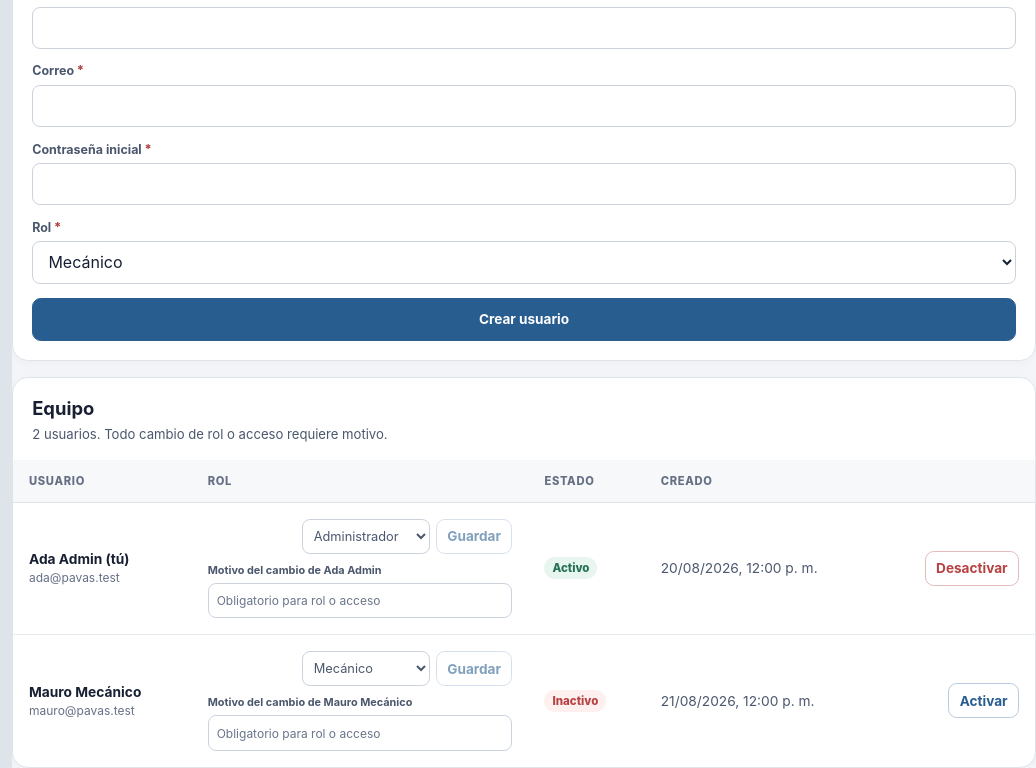
Test: UsersPage › reactivates an inactive user without destructive confirmation
The image size is (1036, 768).
(page scrolled)
expect the text "Mauro Mecánico" is shown: met, box [29,684,141,700]
In the field labelled "Motivo del cambio de Mauro Mecánico": [360, 733] box [208,716,512,751], type "Regreso al taller"
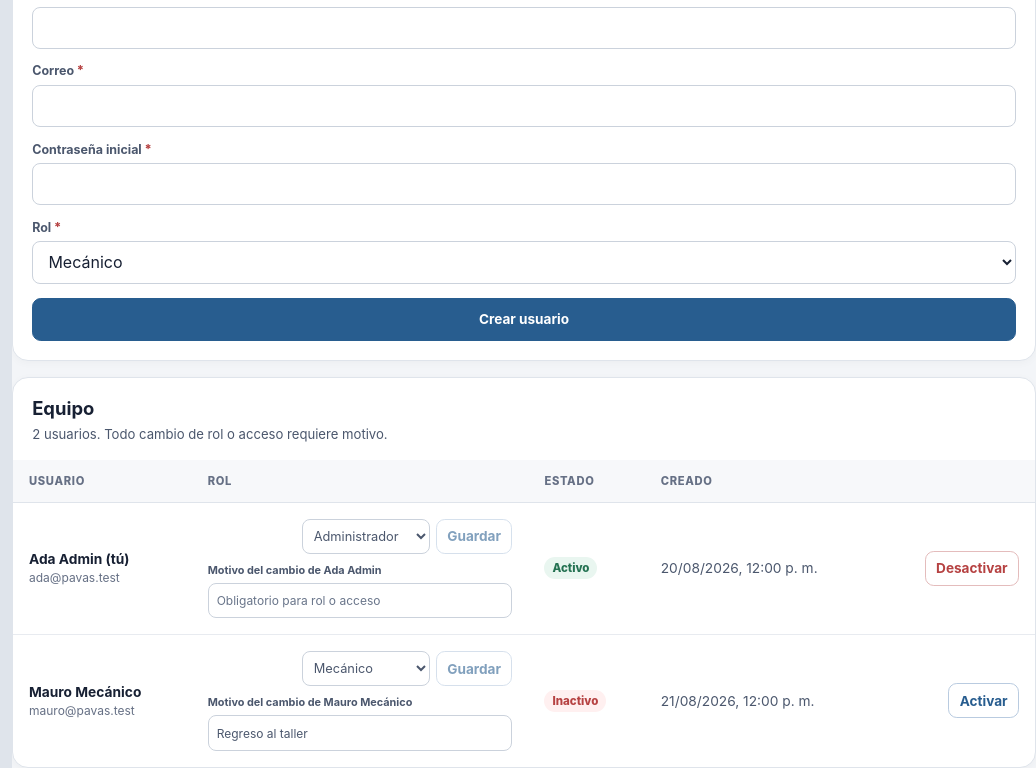
Click the button with aria-label "activar a mauro": [984, 701] box [948,683,1019,718]
(page scrolled)
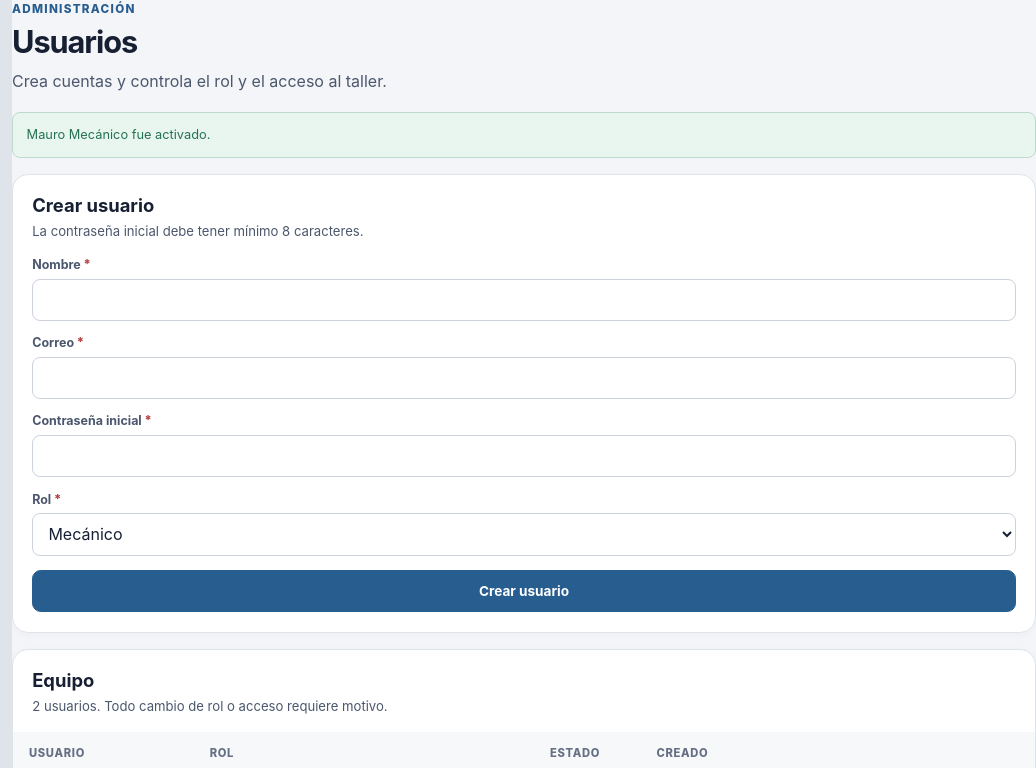
expect the text "Mauro Mecánico fue activado." is shown: met, box [12,112,1035,158]
